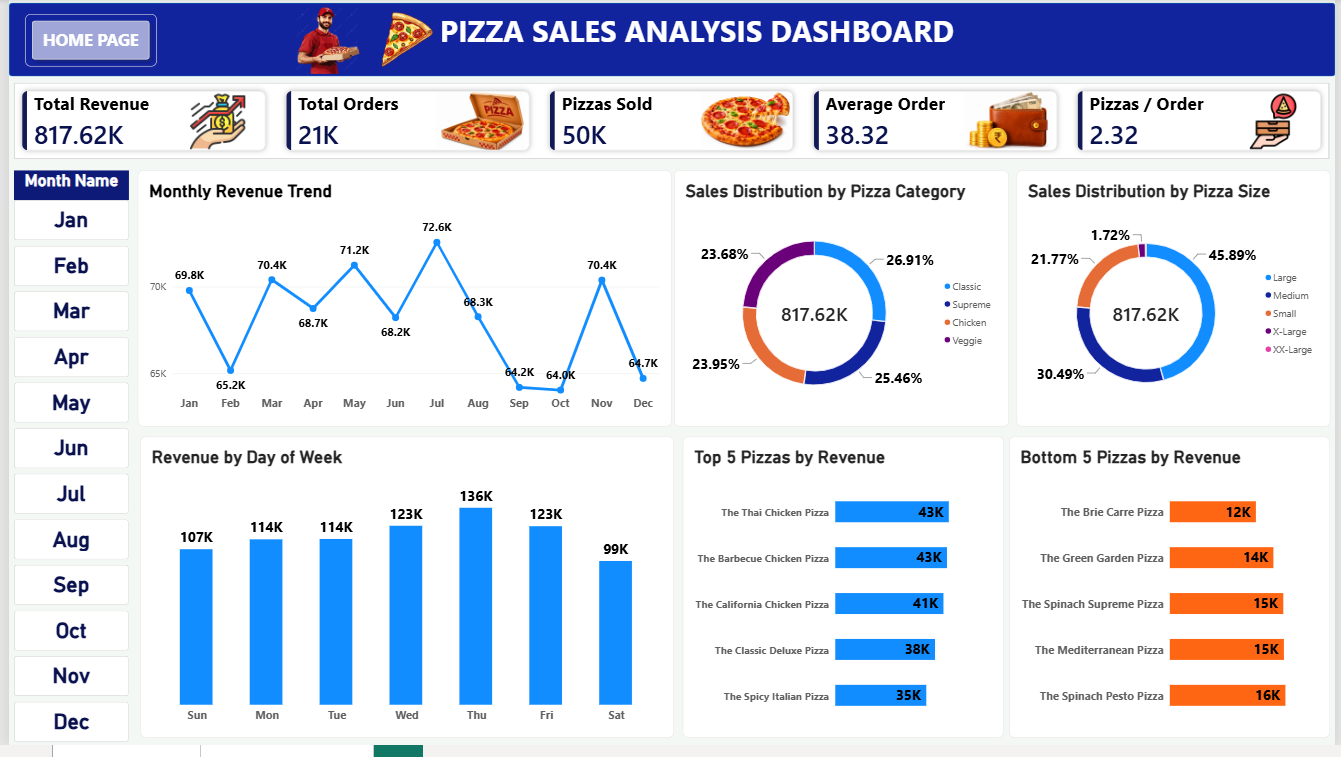

What the dashboard file says about the page in this screenshot:
{"tool":"powerbi","page":{"name":"Pizza - Dashboard","canvas":[1920,1080],"ordinal":1},"visuals":[{"type":"shape","box":[0,5.4,1920.1,106.8],"z":0},{"type":"cardVisual","fields":{"Data":["pizza_sales.Total Revenue","pizza_sales.Total Orders","pizza_sales.Total Pizzas Sold","pizza_sales.Average Order","pizza_sales.Avg Pizzas Per Order"]},"box":[7.2,121.2,1905.6,110.4],"z":1000},{"type":"advancedSlicerVisual","fields":{"Values":["pizza_sales.Month Name"]},"box":[7.2,247.9,166.5,832.4],"z":2000},{"type":"lineChart","title":"\tMonthly Revenue Trend","fields":{"Category":["pizza_sales.Month Name"],"Y":["pizza_sales.Total Revenue"]},"box":[186.4,247.9,772.7,371],"z":3000},{"type":"clusteredColumnChart","title":"\tRevenue by Day of Week","fields":{"Category":["pizza_sales.Day Name"],"Y":["pizza_sales.Total Revenue"]},"box":[190,633.4,772.7,436.1],"z":4000},{"type":"donutChart","title":"\tSales Distribution by Pizza Category","fields":{"Category":["pizza_sales.pizza_category"],"Y":["pizza_sales.Total Revenue"]},"box":[962.7,247.9,485,371],"z":5000},{"type":"donutChart","title":"Sales Distribution by Pizza Size","fields":{"Category":["pizza_sales.pizza_size"],"Y":["pizza_sales.Total Revenue"]},"box":[1458.6,247.9,454.2,371],"z":6000},{"type":"clusteredBarChart","title":"Top 5 Pizzas by Revenue","fields":{"Category":["pizza_sales.pizza_name"],"Y":["pizza_sales.Total Revenue"]},"box":[975.4,633.4,465.1,436.1],"z":7000},{"type":"clusteredBarChart","title":"Bottom 5 Pizzas by Revenue","fields":{"Category":["pizza_sales.pizza_name"],"Y":["pizza_sales.Total Revenue"]},"box":[1447.7,633.4,465.1,436.1],"z":8000},{"type":"image","box":[526.6,10.9,94.1,97.7],"z":9000},{"type":"textbox","box":[602.6,16.3,787.2,74.2],"z":10000},{"type":"image","box":[396.3,10.9,132.1,97.7],"z":11000},{"type":"actionButton","box":[23.5,21.7,190,76],"z":12000}]}

Visuals, with their boxes in screenshot pixels (x1, y1, x2, y2), scaled from the page's 1920x1080 canvas onto the 1341x757 screenshot:
shape: bbox(0, 4, 1340, 79)
cardVisual - pizza_sales.Total Revenue x pizza_sales.Total Orders: bbox(5, 85, 1336, 162)
advancedSlicerVisual - pizza_sales.Month Name: bbox(5, 174, 121, 756)
"	Monthly Revenue Trend" lineChart: bbox(130, 174, 670, 434)
"	Revenue by Day of Week" clusteredColumnChart: bbox(133, 444, 672, 750)
"	Sales Distribution by Pizza Category" donutChart: bbox(672, 174, 1011, 434)
"Sales Distribution by Pizza Size" donutChart: bbox(1019, 174, 1336, 434)
"Top 5 Pizzas by Revenue" clusteredBarChart: bbox(681, 444, 1006, 750)
"Bottom 5 Pizzas by Revenue" clusteredBarChart: bbox(1011, 444, 1336, 750)
image: bbox(368, 8, 434, 76)
textbox: bbox(421, 11, 971, 63)
image: bbox(277, 8, 369, 76)
actionButton: bbox(16, 15, 149, 68)
